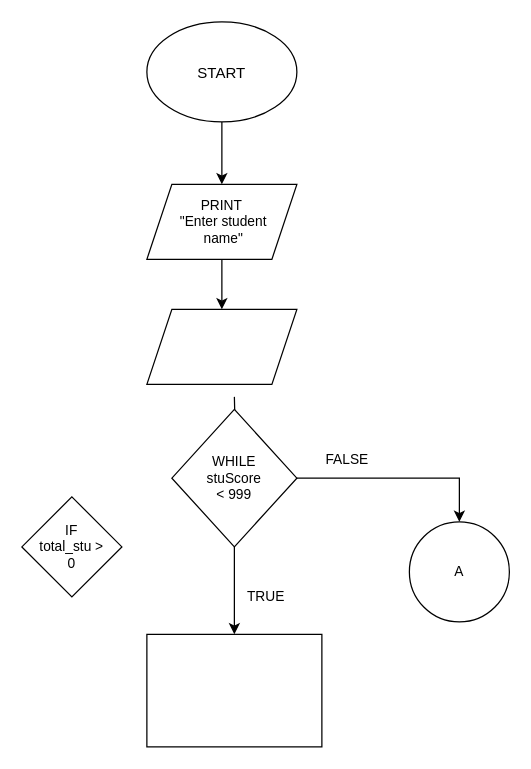
Some shapes in this 531 by 769 pixel diagram are drawn without their labels. Each missing label, with the centre of its shape:
PRINT "Enter student score": (x=221, y=346)
total_stu = total_stu + 1 total_score = total_score + exam_score: (x=234, y=690)
